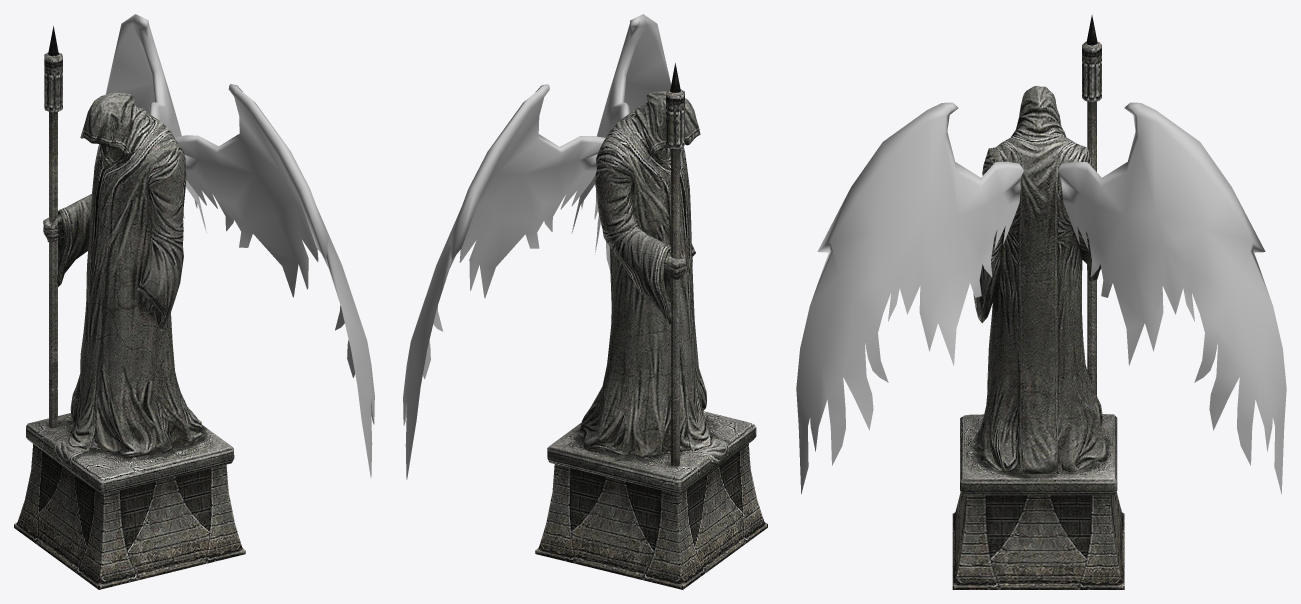
Rendered from stone_magic_man_type_A.FBX.
3 views of the same model, side by side, from view 1: azimuth 30°, elevation 25°; view 2: azimuth 150°, elevation 25°; view 3: azimuth 270°, elevation 25° (orthographic).
Parts seen in each view (by area): view 1: Object001, wing; view 2: Object001, wing; view 3: wing, Object001.
Boxes of the visible parts, x1=… form: Object001: x1=14, y1=26, x2=245, y2=589; wing: x1=105, y1=14, x2=374, y2=477; Object001: x1=535, y1=63, x2=767, y2=589; wing: x1=403, y1=14, x2=670, y2=479; wing: x1=796, y1=102, x2=1286, y2=494; Object001: x1=952, y1=15, x2=1124, y2=589.
Size of the model in its own units: 3.29 by 7.41 by 6.39.
